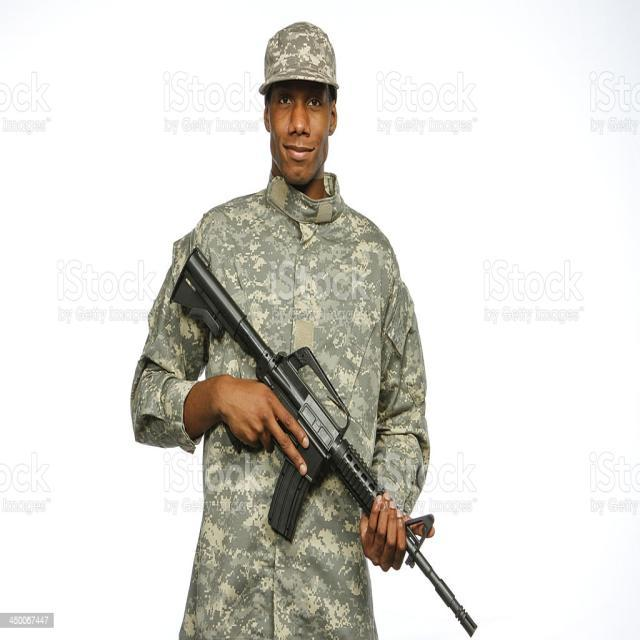Rifle: (134, 24, 425, 640), (168, 249, 476, 636)
